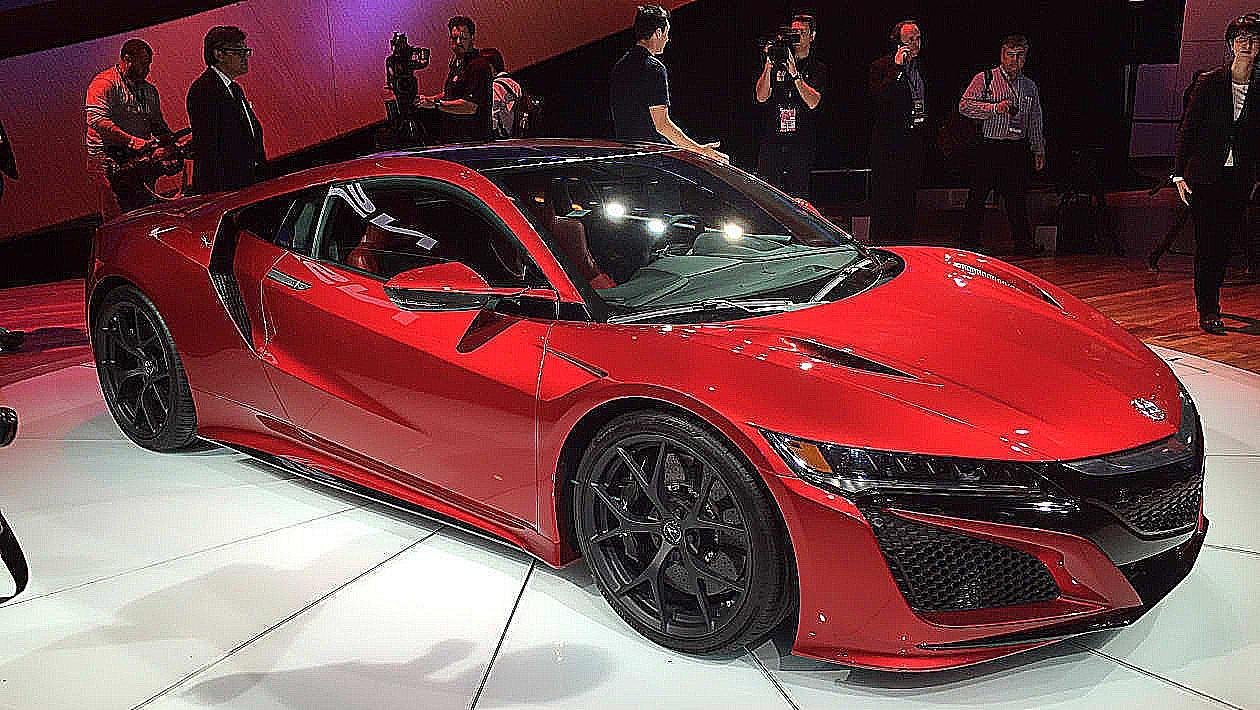Car hood: (623, 237, 1187, 468)
Driver-s door - -F-R-: (253, 151, 558, 566)
Fender - -F-R-: (527, 319, 750, 591)
Fender - -R-R-: (83, 191, 238, 452)
Front bumper: (767, 420, 1211, 681)
Headlight - -R-: (757, 425, 1084, 529)
Side bumper - -R-: (186, 388, 573, 585)
Side mirror - -R-: (381, 260, 558, 326)
